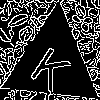K: (28, 37, 78, 95)
